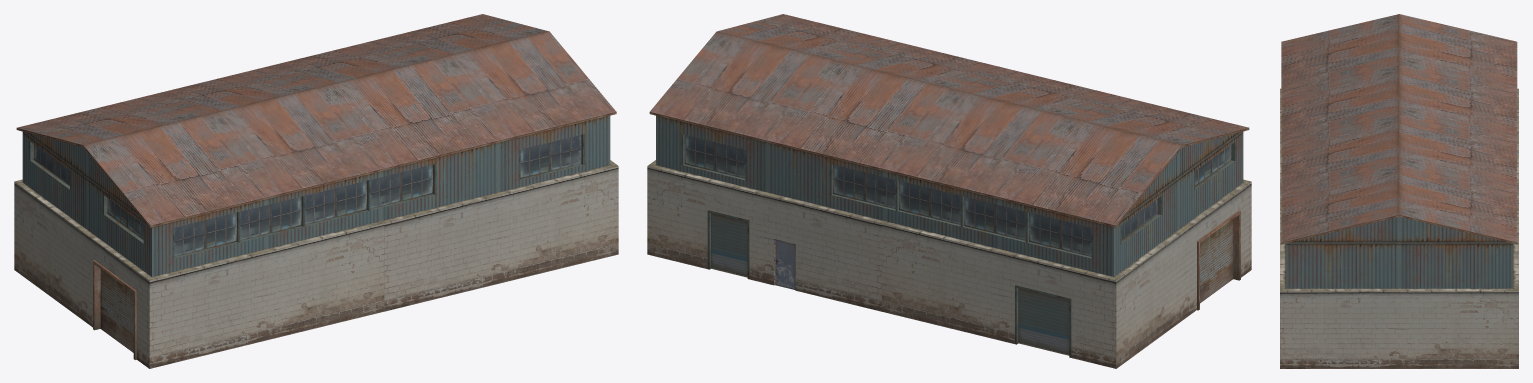
Rendered from Hangar_v5_7.FBX.
3 views of the same model, side by side, from view 1: azimuth 30°, elevation 25°; view 2: azimuth 150°, elevation 25°; view 3: azimuth 270°, elevation 25° (orthographic). The views are drawn at different scales.
Visible parts, largest first — view 1: Hangar_v5_7, Hangar_v5_7_inside, Hangar_v5_7_door4; view 2: Hangar_v5_7, Hangar_v5_7_inside, Hangar_v5_7_door3, Hangar_v5_7_door1, Hangar_v5_7_door4, Hangar_v5_7_door2; view 3: Hangar_v5_7.
Boxes of the visible parts, x1=… form: Hangar_v5_7: x1=14, y1=14, x2=618, y2=368; Hangar_v5_7_inside: x1=34, y1=135, x2=581, y2=256; Hangar_v5_7_door4: x1=100, y1=269, x2=133, y2=352; Hangar_v5_7: x1=647, y1=14, x2=1251, y2=368; Hangar_v5_7_inside: x1=684, y1=135, x2=1231, y2=256; Hangar_v5_7_door3: x1=1018, y1=288, x2=1069, y2=355; Hangar_v5_7_door1: x1=711, y1=213, x2=747, y2=277; Hangar_v5_7_door4: x1=1200, y1=219, x2=1233, y2=303; Hangar_v5_7_door2: x1=775, y1=240, x2=794, y2=289; Hangar_v5_7: x1=1280, y1=14, x2=1518, y2=368.
Bounding box in the file's own units: 26.59 × 9.38 × 13.23.
